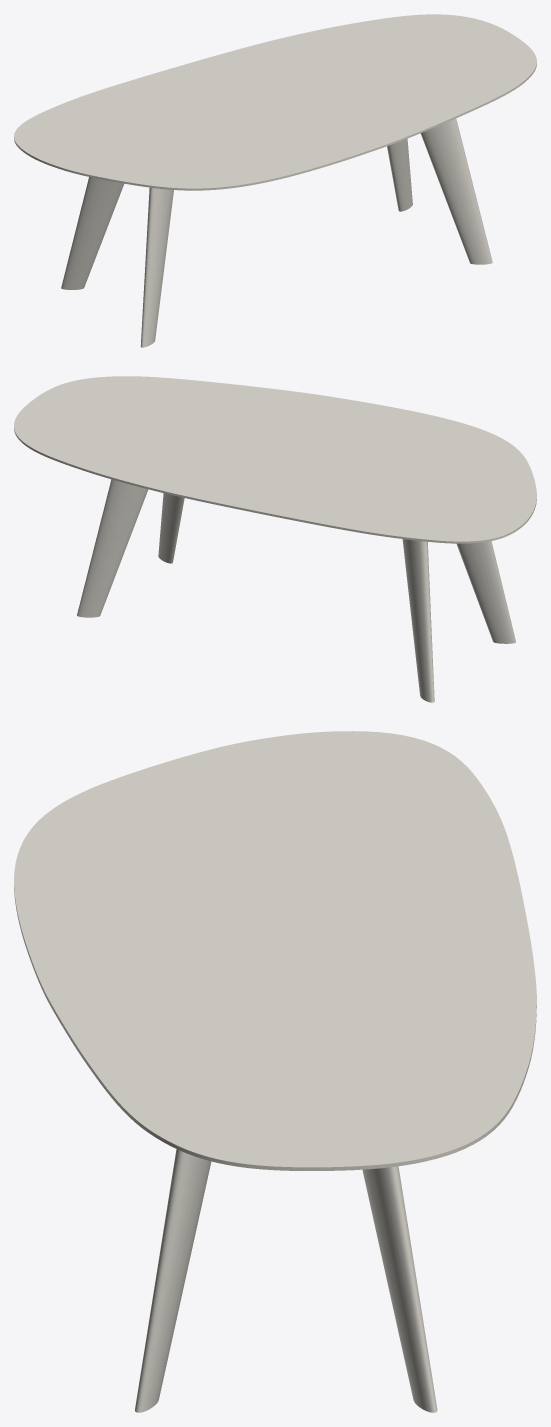
Rendered from pale_leaf2_facet_ferdinantwalnut.glb.
3 views of the same model, one above another, from view 1: azimuth 30°, elevation 25°; view 2: azimuth 150°, elevation 25°; view 3: azimuth 270°, elevation 25° (orthographic). The views are drawn at different scales.
Visible parts, largest first — view 1: facet_leaf2, ferdinandwalnut; view 2: facet_leaf2, ferdinandwalnut; view 3: facet_leaf2, ferdinandwalnut.
Part boxes in pixels (box(x1,y1,x2,y2)): facet_leaf2: box(14, 14, 536, 190); ferdinandwalnut: box(61, 118, 492, 347); facet_leaf2: box(14, 376, 536, 543); ferdinandwalnut: box(77, 479, 515, 702); facet_leaf2: box(14, 731, 536, 1170); ferdinandwalnut: box(135, 1149, 437, 1412).
Size of the model in its own units: 7.5 by 2.51 by 3.8.
Materials: 1 (1 with a texture image).
